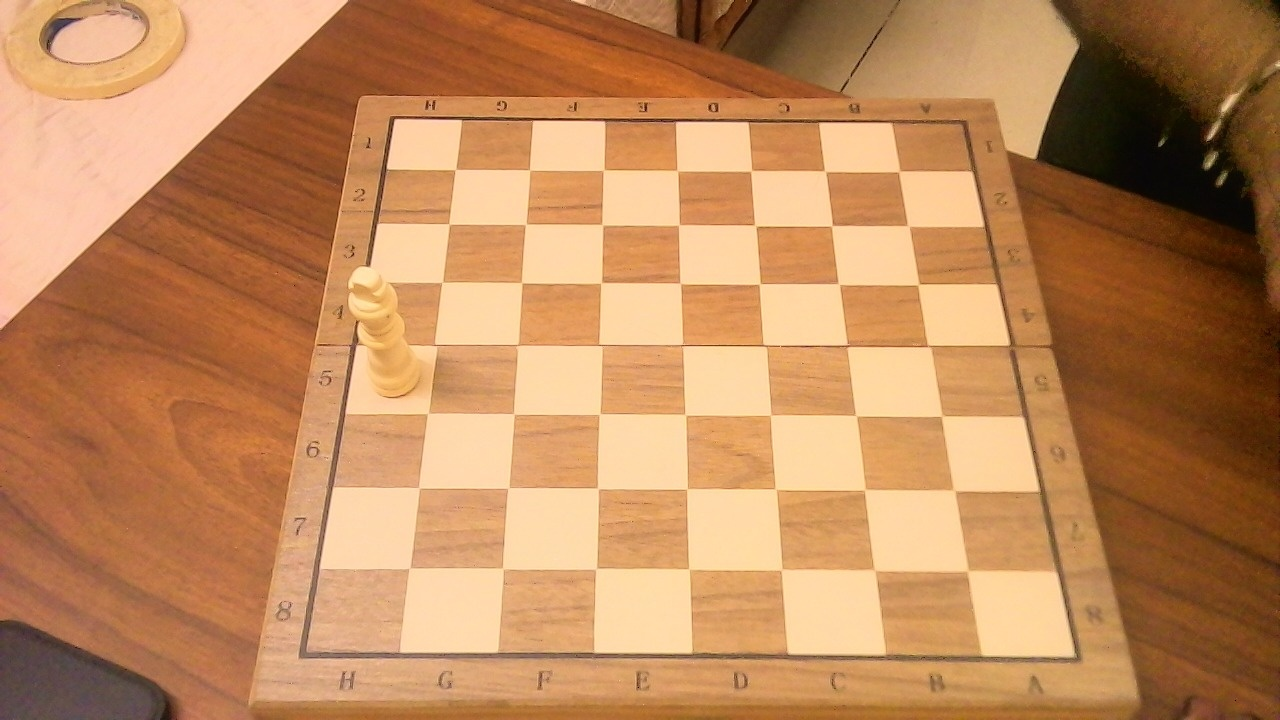K: (344, 253, 427, 404)
